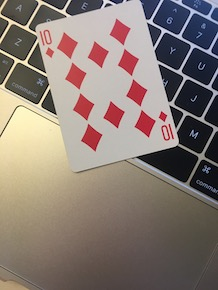TenOfDiamonds: (33, 1, 179, 173)
